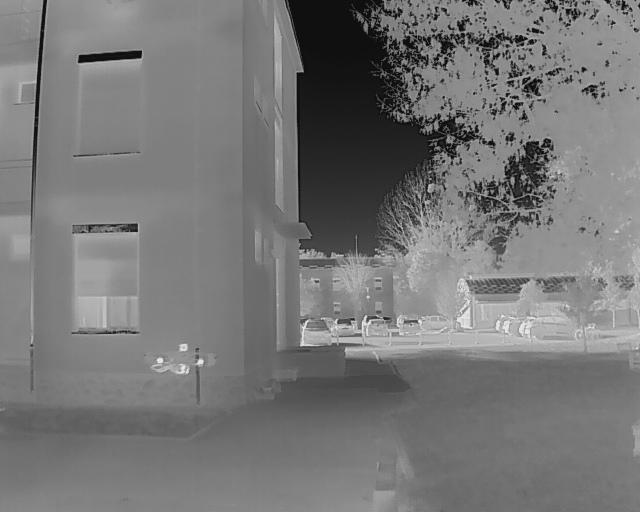drone: (142, 341, 220, 378)
